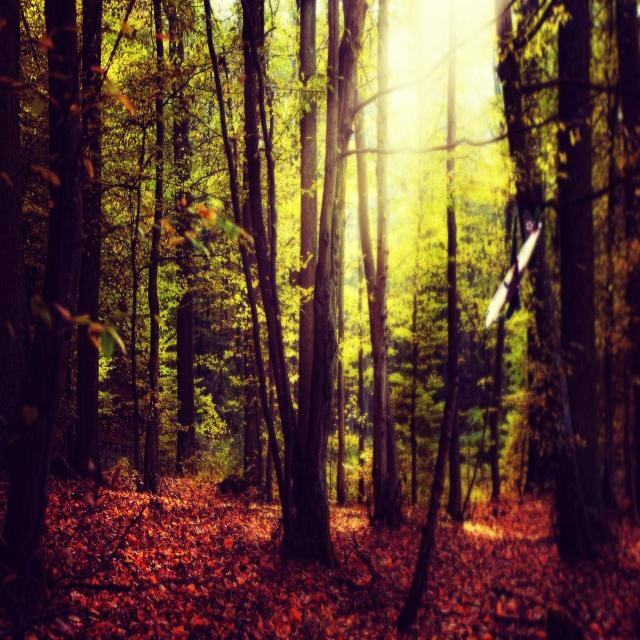airplane: (485, 208, 542, 329)
